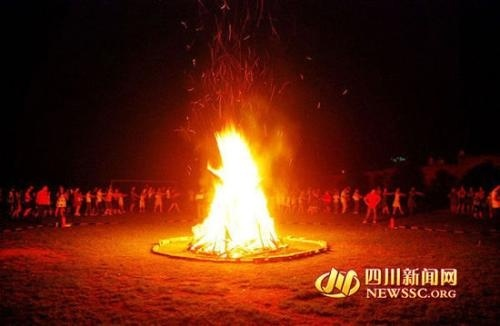fire: (193, 121, 281, 252)
